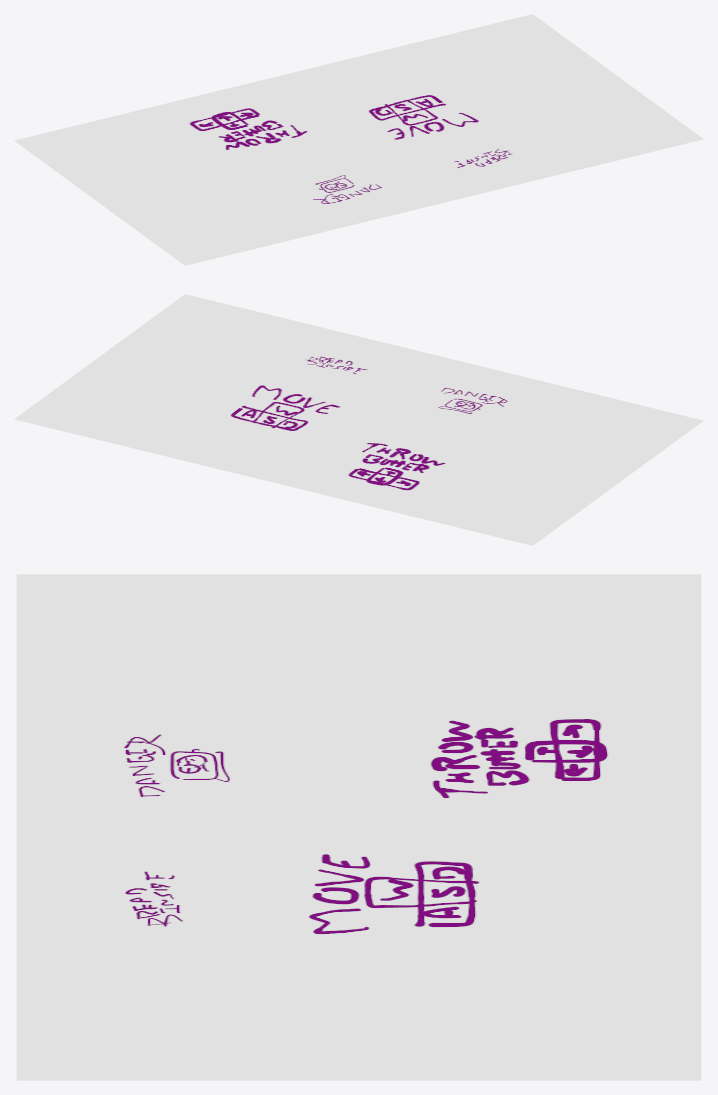
Rendered from instructions.fbx.
The picture shows the model from 3 angles, top to bottom: view 1: azimuth 30°, elevation 25°; view 2: azimuth 150°, elevation 25°; view 3: azimuth 270°, elevation 25°; orthographic projection. The views are drawn at different scales.
Visible parts, largest first — view 1: pPlane1; view 2: pPlane1; view 3: pPlane1.
Part boxes in pixels (box(x1,y1,x2,y2)): pPlane1: box(14, 14, 703, 265); pPlane1: box(14, 294, 703, 545); pPlane1: box(16, 574, 701, 1080).
Bounding box in the file's own units: 14 × 4.77e-07 × 8.
Materials: 1 (1 with a texture image).
